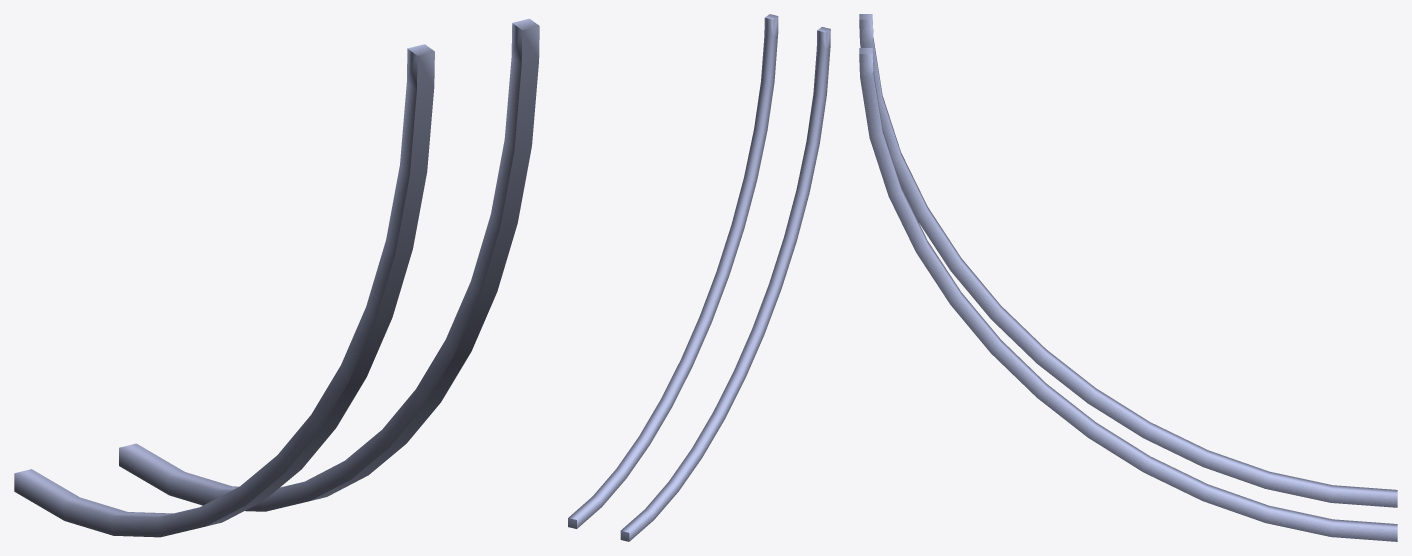
The model's file is railroad-rail-straight-bend-large.glb.
3 renders of one model, left to right at view 1: azimuth 30°, elevation 25°; view 2: azimuth 150°, elevation 25°; view 3: azimuth 270°, elevation 25°, orthographic. The views are drawn at different scales.
Parts seen in each view (by area): view 1: railroad-rail-straight-bend-large; view 2: railroad-rail-straight-bend-large; view 3: railroad-rail-straight-bend-large.
Boxes of the visible parts, bbox=[...] form: railroad-rail-straight-bend-large: bbox=[14, 18, 539, 537]; railroad-rail-straight-bend-large: bbox=[568, 14, 830, 541]; railroad-rail-straight-bend-large: bbox=[859, 14, 1397, 541].
Bounding box in the file's own units: 0.7 × 4 × 4.
Materials: 1 (1 with a texture image).
